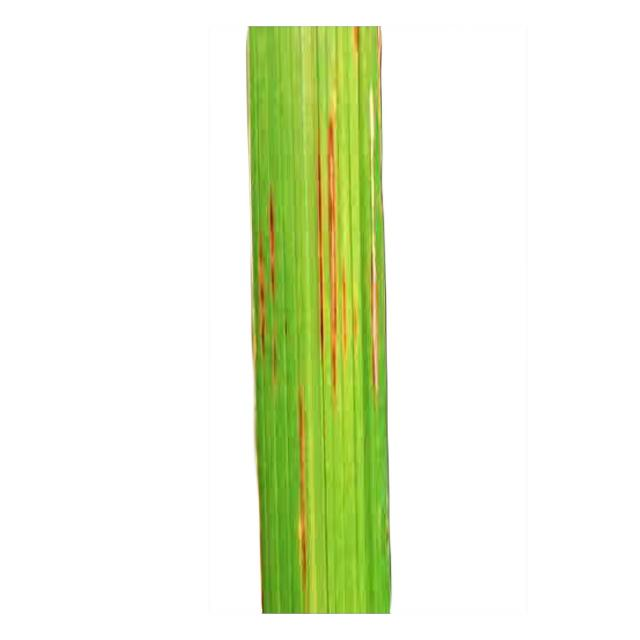Narrow brown: (171, 5, 460, 640)
